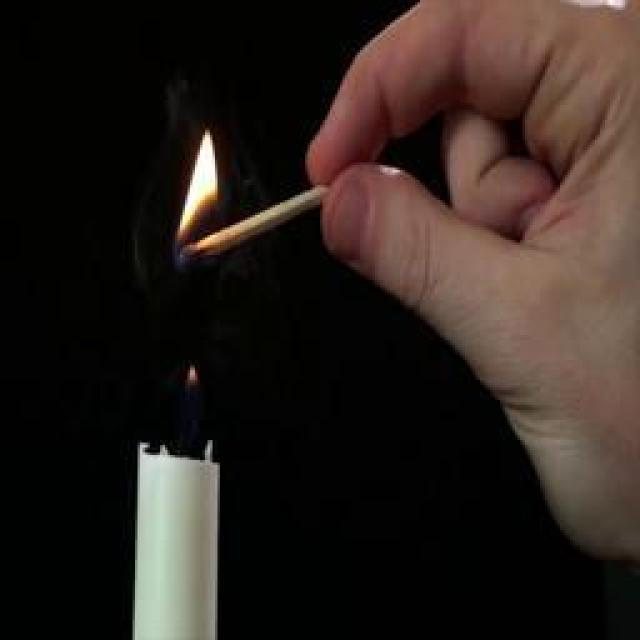Fire: (181, 131, 221, 244)
